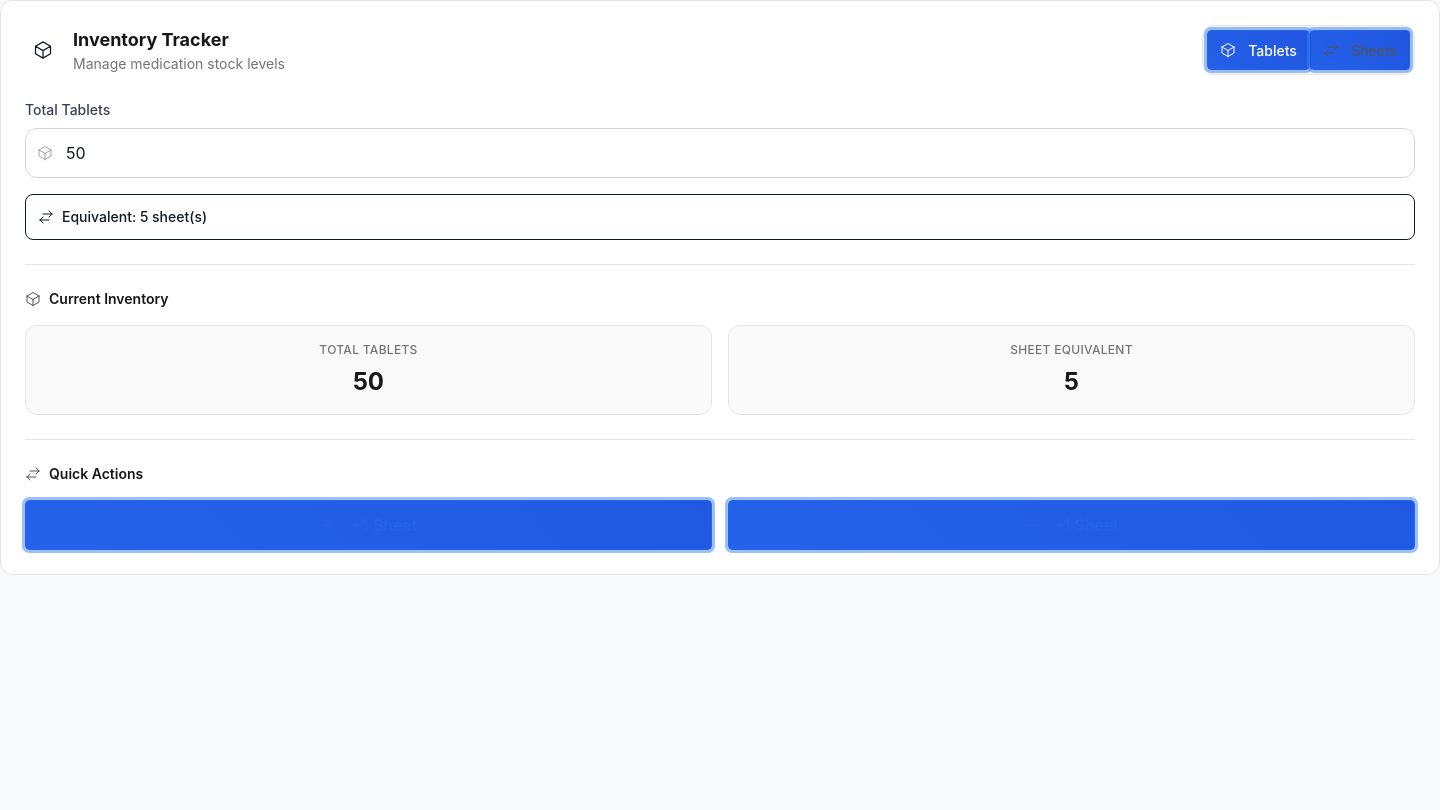
Scenario: InventoryTracker › switches between tablets and sheets input modes
Expected: the number field labelled "Total Tablets" is shown, [25,128,1415,178]
# Switch to sheets mode
Click the button "Sheets" at (1360, 50), box [1310,30,1410,70]
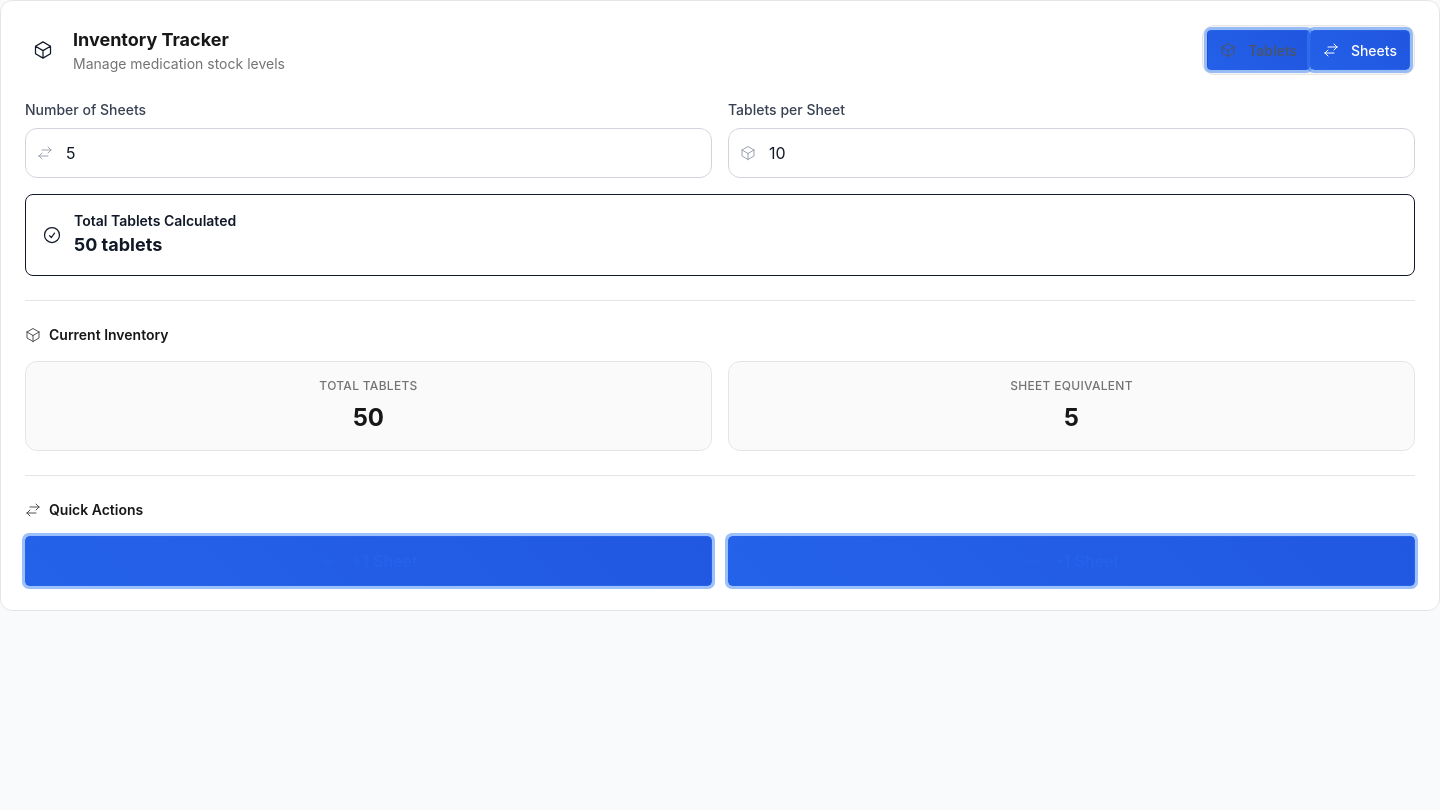
Expected: the number field labelled "Number of Sheets" is shown, [25,128,712,178]
Expected: the number field labelled "Tablets per Sheet" is shown, [728,128,1415,178]
